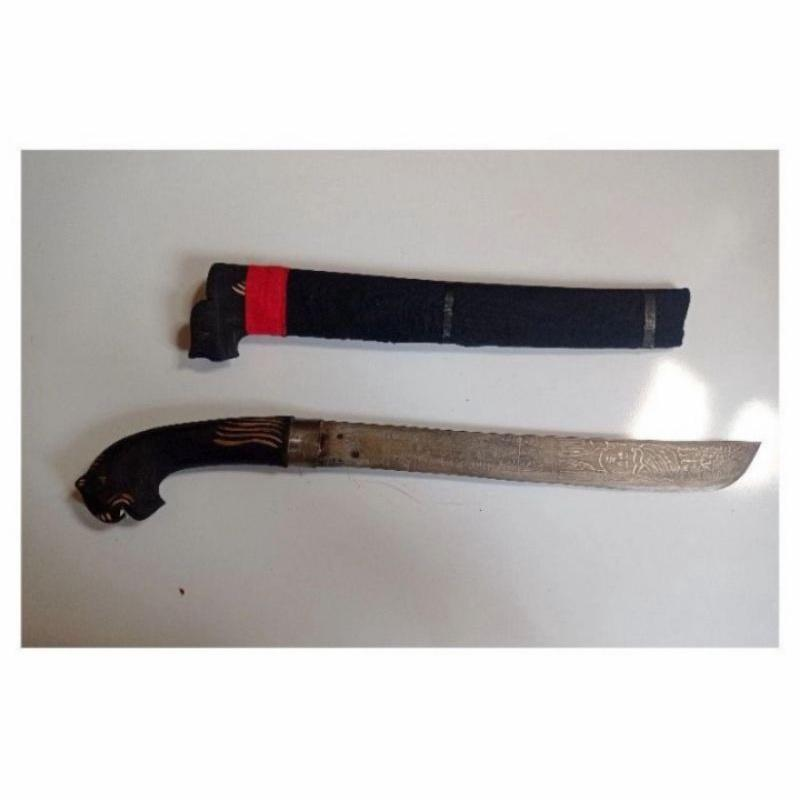facao: (76, 416, 758, 523)
